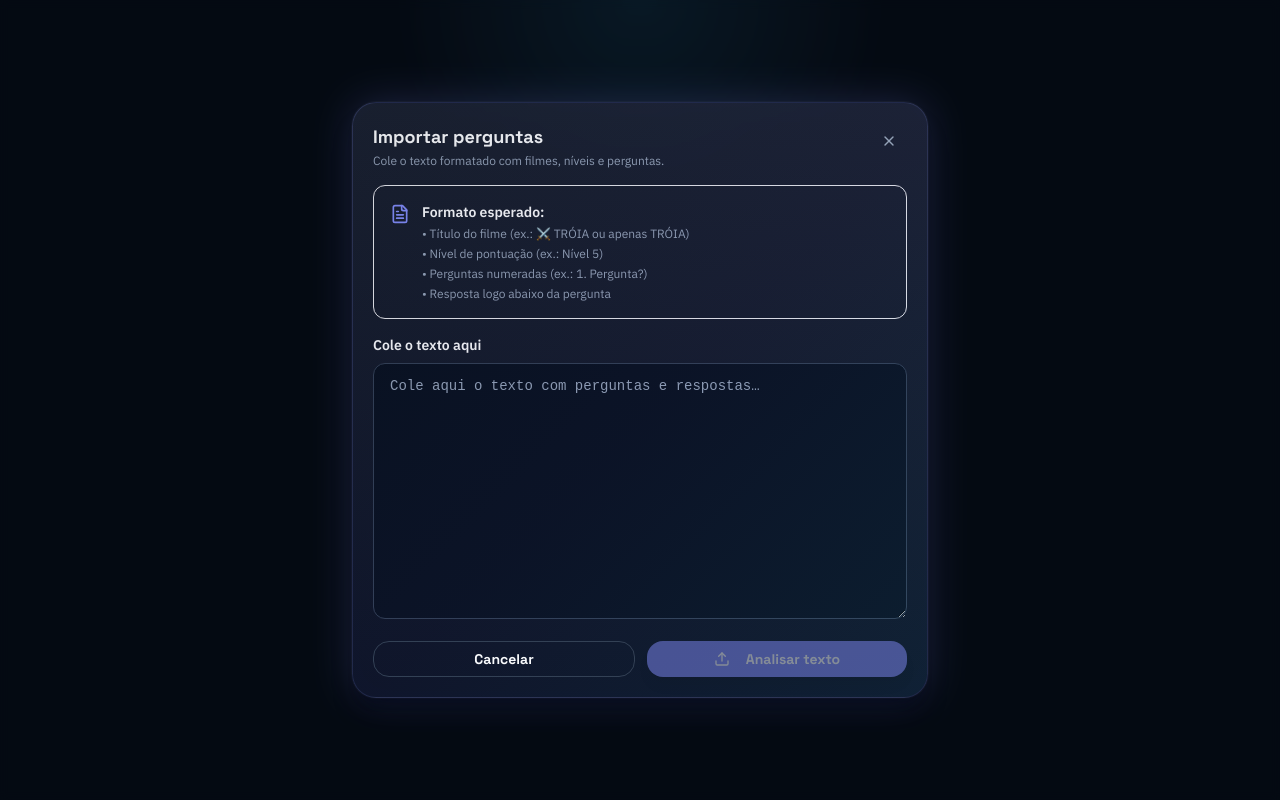
QuestionImportModal › Parsing de Texto › deve mostrar aviso quando filme não é encontrado
Type "TRÓIA INEXISTENTE Nível 5 1. Pergunta? Resposta" into the text box with placeholder "Cole aqui o texto com perguntas e respostas…" at x=640, y=491, box [373,363,907,619]
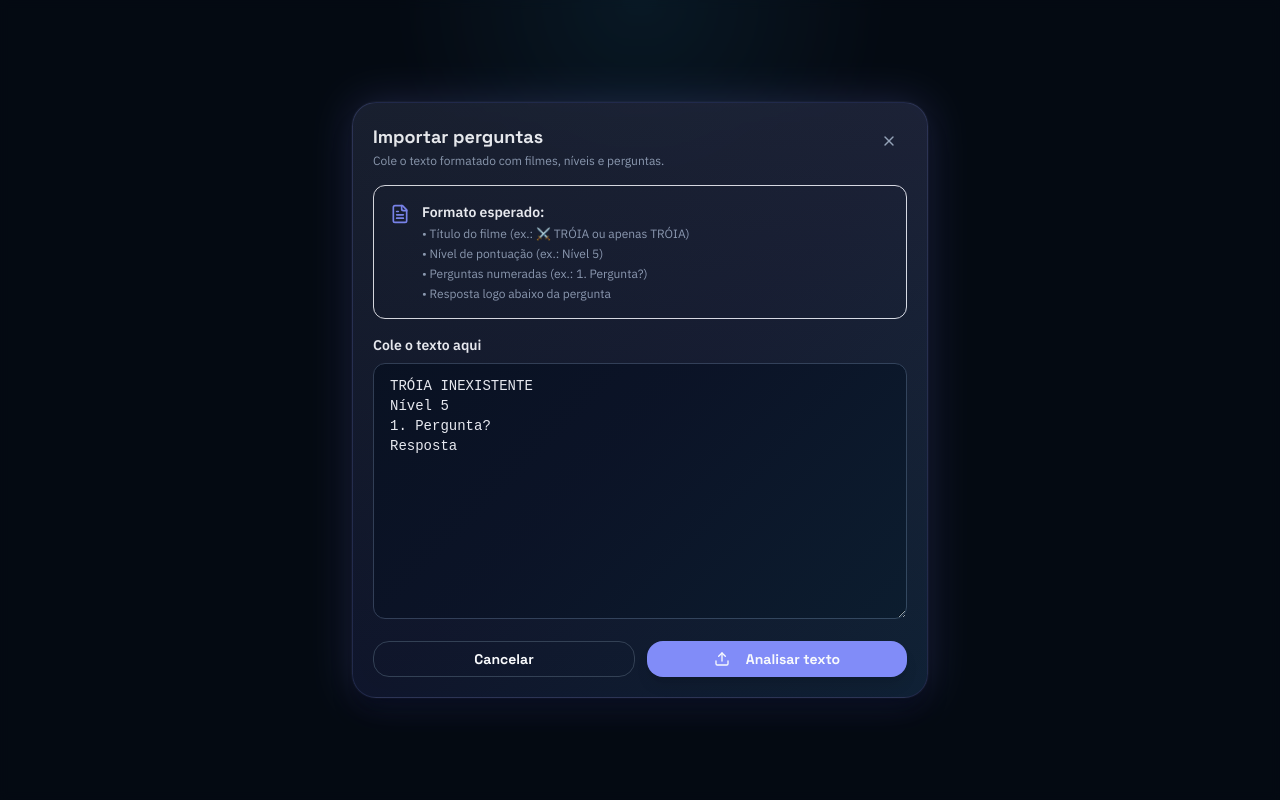
Click the button "Analisar texto" at x=777, y=659, box [647,641,907,677]
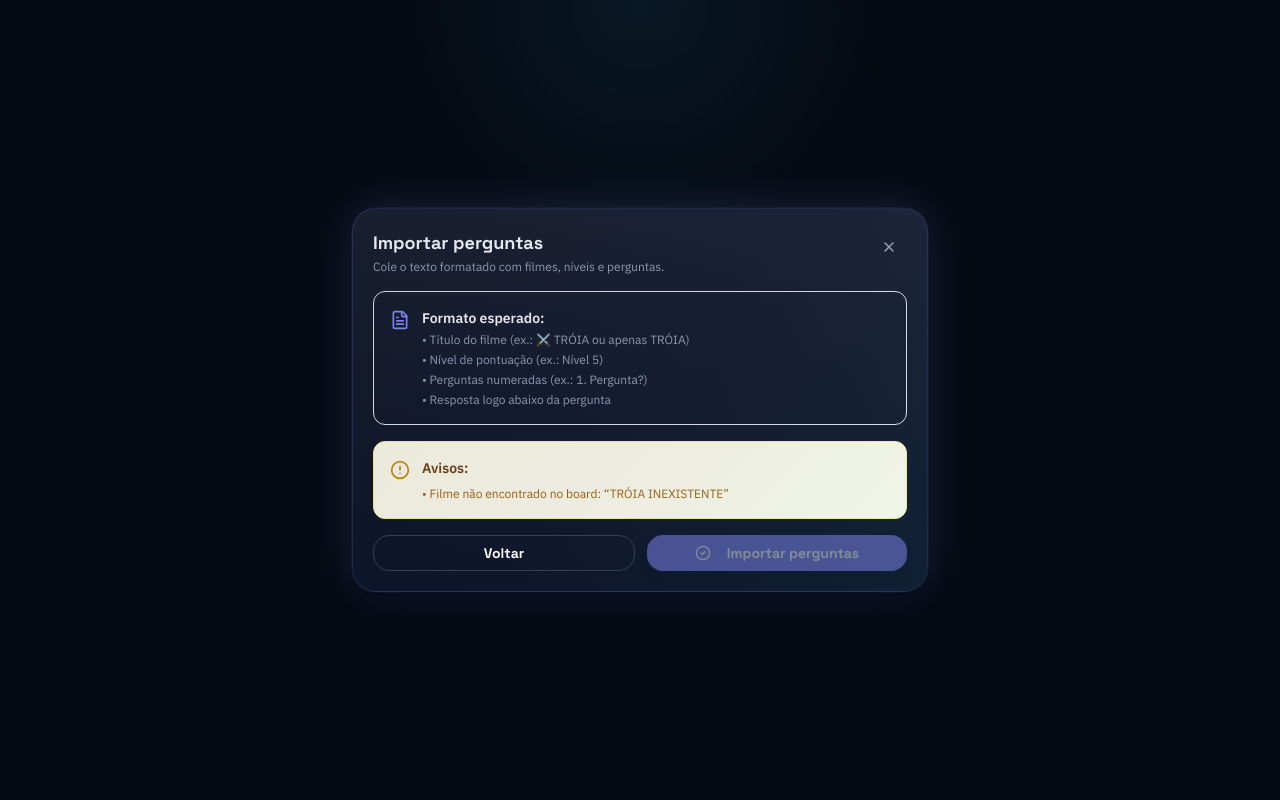
Check: the list item "• Filme não encontrado no board: “TRÓIA INEXISTENTE”" is shown, box [422,486,729,501]
